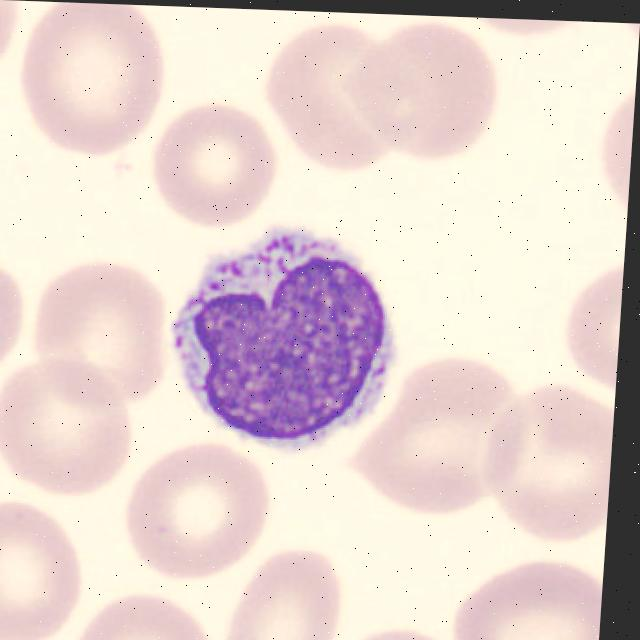lymphocyte: (164, 223, 395, 434)
rbc: (343, 350, 520, 516), (12, 1, 170, 161), (267, 26, 429, 165), (366, 14, 508, 162), (30, 261, 172, 408), (120, 447, 268, 587), (483, 387, 614, 539), (0, 356, 133, 496), (146, 103, 281, 237), (455, 561, 604, 640), (0, 507, 83, 639), (229, 551, 349, 640), (68, 571, 221, 640), (549, 261, 624, 396), (587, 86, 635, 205), (0, 256, 26, 388), (0, 0, 26, 70), (471, 17, 577, 34), (344, 626, 459, 640)
